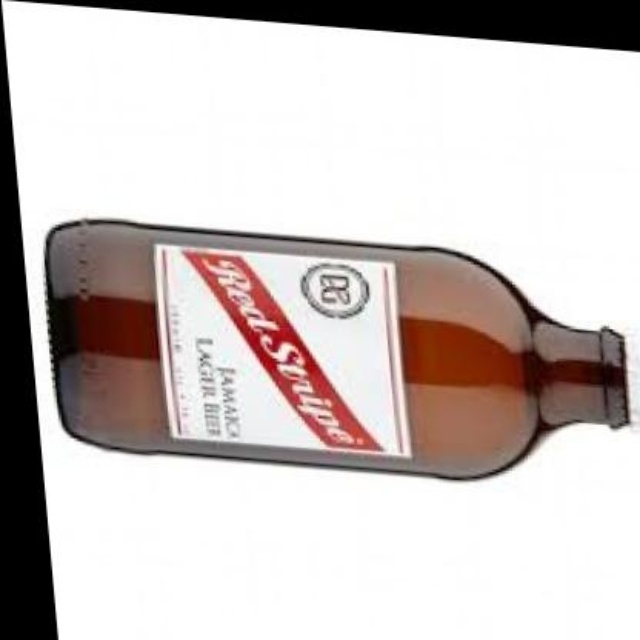trash: (46, 220, 628, 477)
